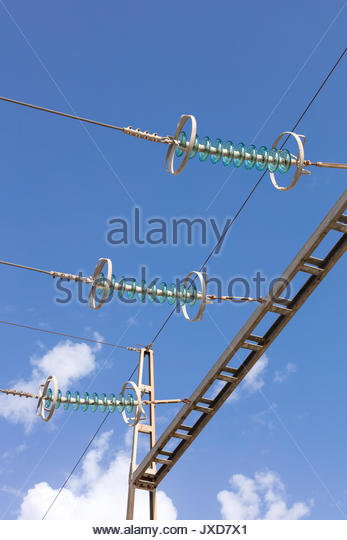isolator: (173, 130, 291, 174), (95, 272, 198, 306), (43, 388, 135, 414)
